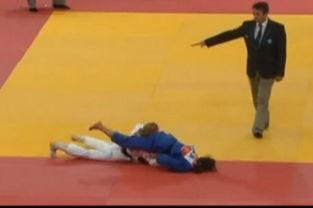Fall-Detected: (80, 111, 225, 175)
